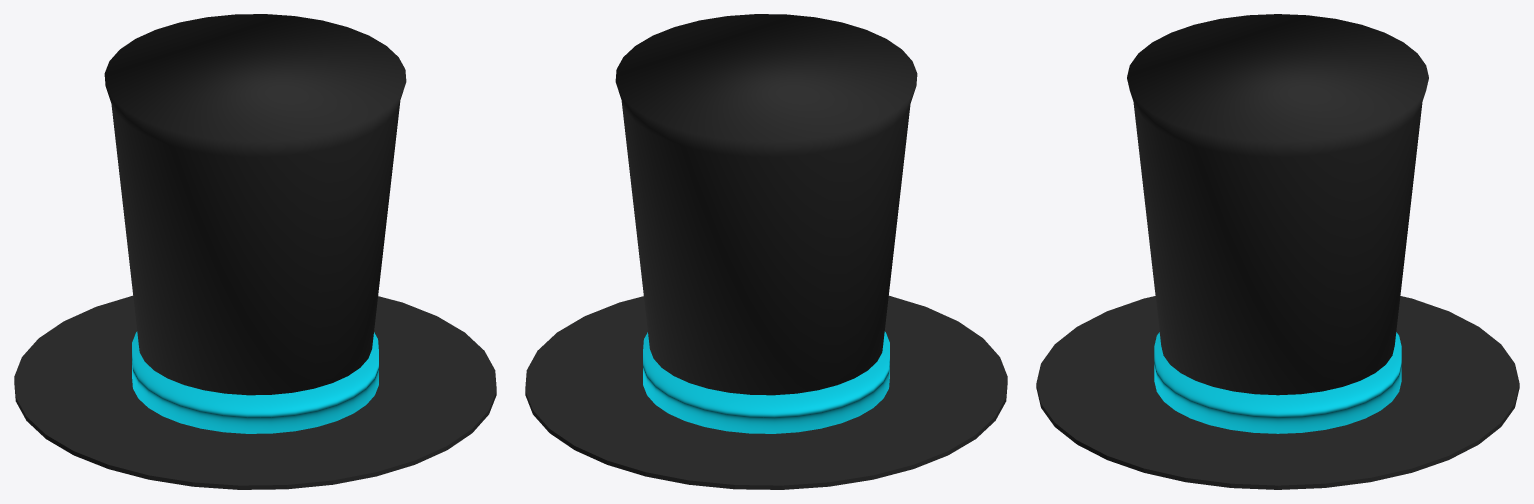
Rendered from tophat4.fbx.
3 renders of one model, left to right at view 1: azimuth 30°, elevation 25°; view 2: azimuth 150°, elevation 25°; view 3: azimuth 270°, elevation 25°, orthographic.
Parts seen in each view (by area): view 1: Cylinder.001, Cylinder, Cylinder.002; view 2: Cylinder.001, Cylinder, Cylinder.002; view 3: Cylinder.001, Cylinder, Cylinder.002.
Boxes of the visible parts, left/top/right/bottom form: Cylinder.001: left=104, top=14, right=406, bottom=395; Cylinder: left=14, top=295, right=496, bottom=489; Cylinder.002: left=132, top=331, right=378, bottom=433; Cylinder.001: left=615, top=14, right=917, bottom=395; Cylinder: left=525, top=295, right=1007, bottom=489; Cylinder.002: left=643, top=331, right=889, bottom=433; Cylinder.001: left=1127, top=14, right=1428, bottom=395; Cylinder: left=1036, top=296, right=1519, bottom=489; Cylinder.002: left=1154, top=332, right=1401, bottom=433.
Bounding box in the file's own units: 952 × 674 × 952.
